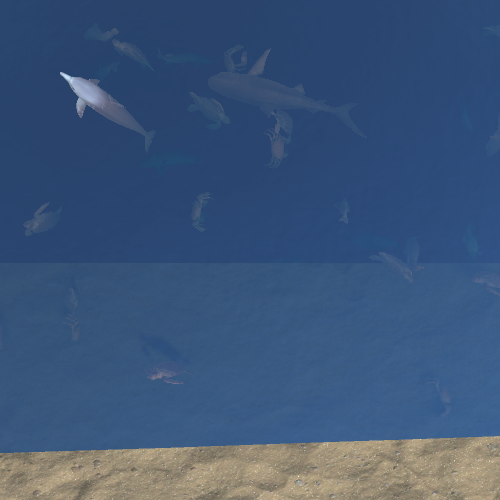Crab: (176, 193, 235, 243), (50, 313, 105, 344)
Dolphin: (48, 80, 169, 155)
Fish: (360, 245, 415, 288), (139, 353, 191, 397), (324, 196, 367, 231)
Shark: (205, 70, 373, 136)
Turtle: (18, 201, 91, 245), (112, 39, 157, 69)
